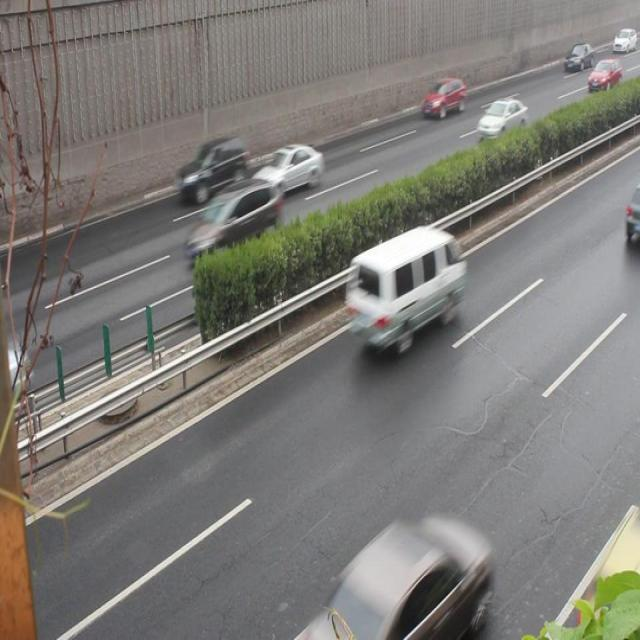car: (320, 513, 487, 640), (184, 178, 279, 266), (178, 137, 248, 202), (250, 140, 323, 198), (475, 95, 527, 143), (420, 77, 464, 120)
truck: (343, 225, 464, 352)
